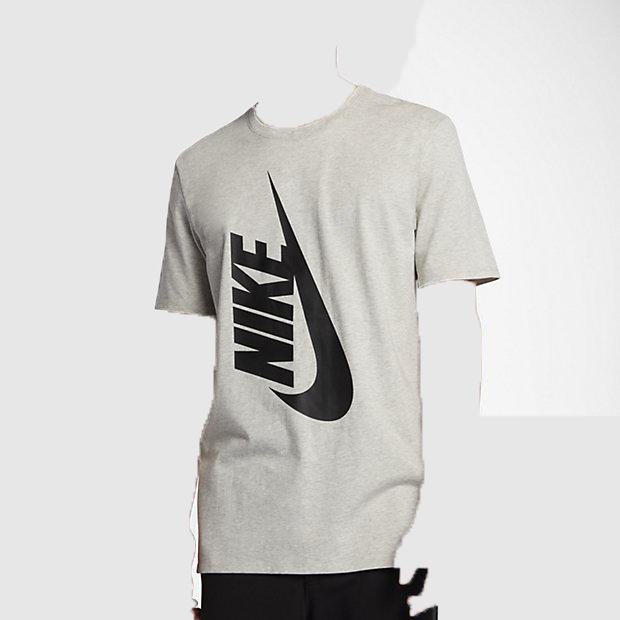teeshirt: (145, 81, 522, 580)
